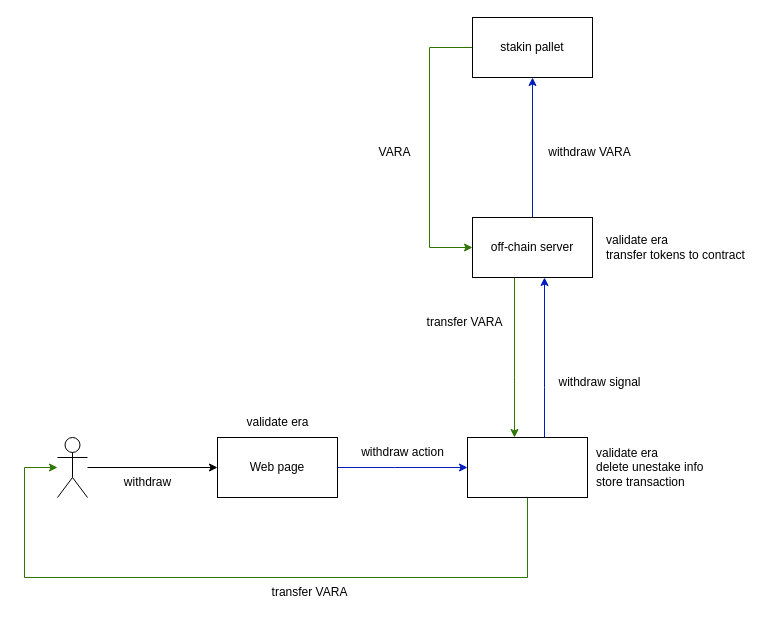
The diagram is 782 pixels wide and 625 high, and some of its shapes have lost their labels. The shapes that lost their labels are listed below. From the top down, each one's centre as x and y in pixels, then its label:
(x=72, y=467): User
(x=527, y=467): Luiquidity contract
